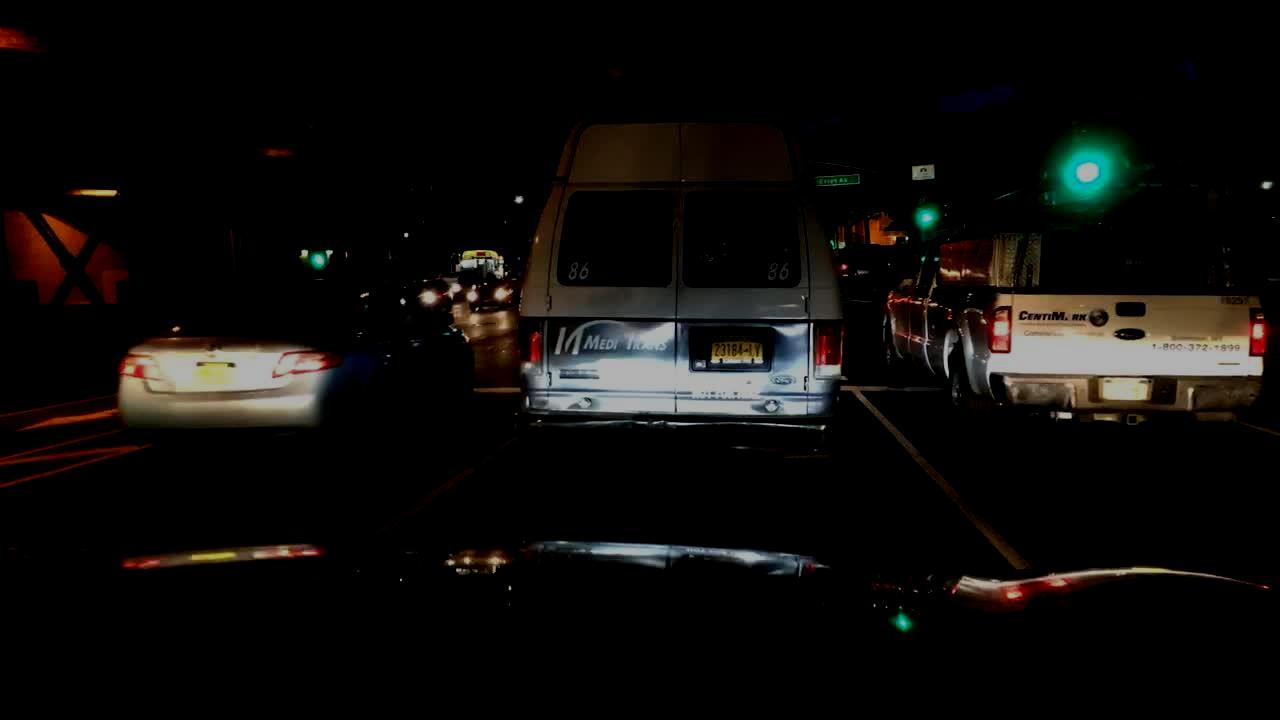ford: (767, 371, 805, 394)
